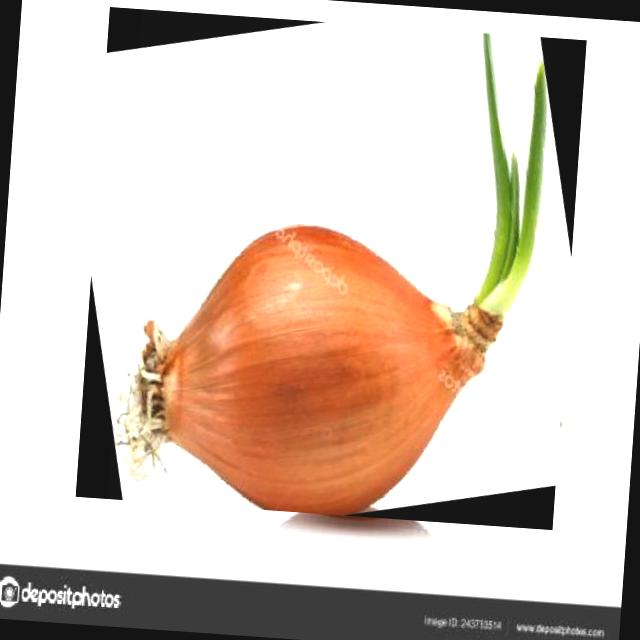sprouting: (113, 33, 546, 514)
